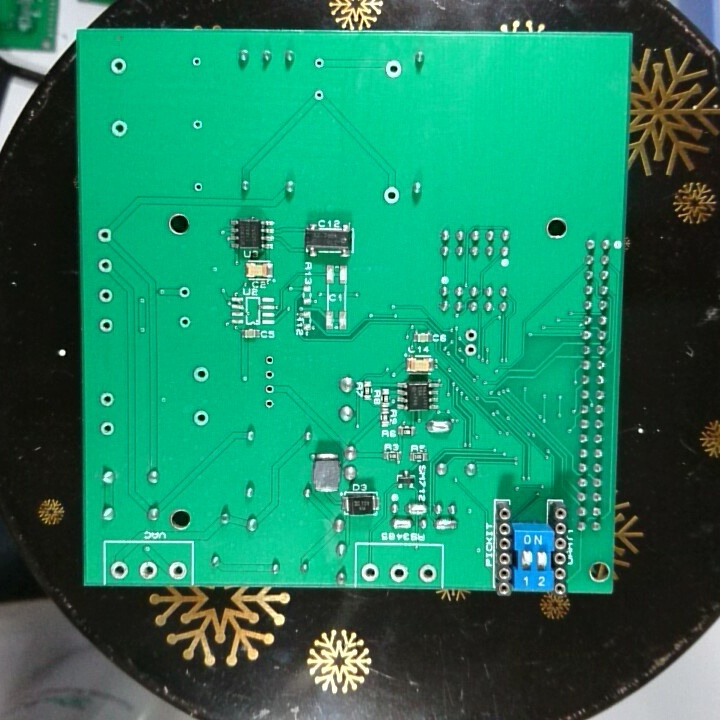F: (108, 557, 129, 583), (380, 183, 402, 207), (385, 562, 410, 583), (108, 118, 131, 140), (166, 558, 188, 581), (191, 407, 212, 429), (137, 558, 158, 580), (417, 562, 437, 585), (108, 55, 128, 78), (94, 225, 115, 246), (382, 58, 402, 80), (359, 561, 379, 583), (97, 390, 117, 410), (191, 365, 210, 385), (96, 256, 114, 277), (97, 315, 115, 335), (97, 419, 115, 438), (97, 286, 114, 306), (462, 341, 480, 359), (311, 54, 327, 73), (177, 283, 193, 302), (176, 313, 193, 330), (462, 327, 478, 343), (190, 180, 205, 196), (262, 396, 277, 412), (311, 86, 325, 103), (189, 53, 203, 70), (262, 352, 277, 367), (262, 366, 276, 382), (191, 117, 205, 132), (261, 381, 275, 395)
P: (389, 515, 415, 535), (433, 516, 459, 534), (424, 418, 451, 435), (404, 500, 429, 516)
